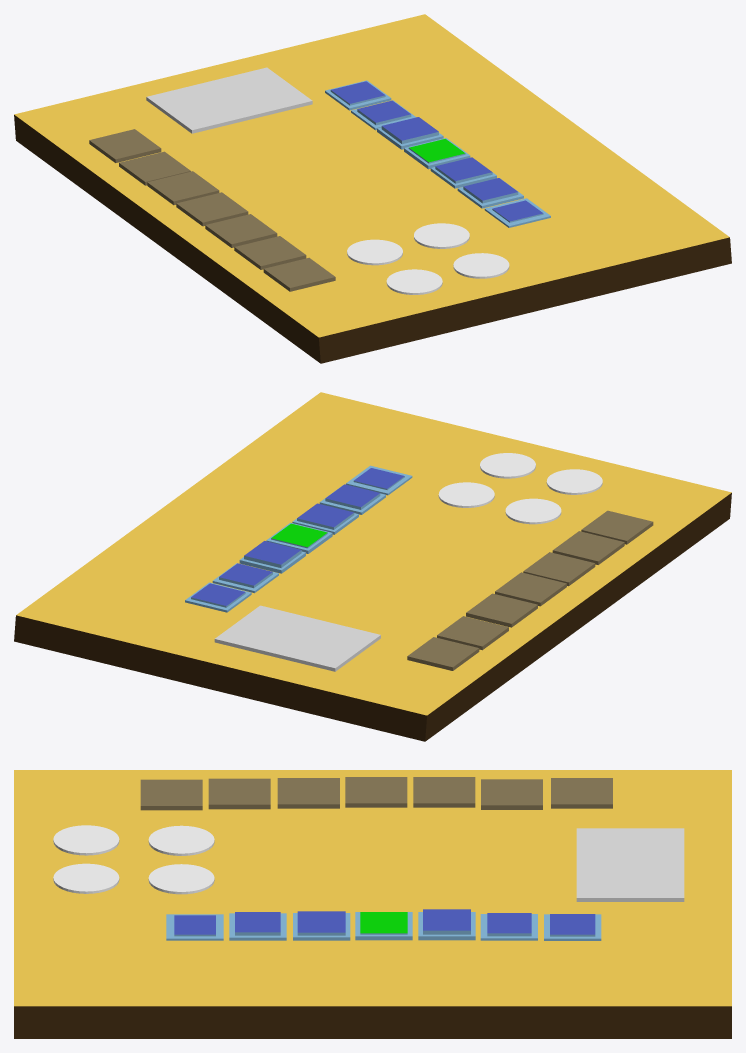
File: BOARD SEKTOR TAMBANG.fbx
3 renders of one model, top to bottom at view 1: azimuth 30°, elevation 25°; view 2: azimuth 150°, elevation 25°; view 3: azimuth 270°, elevation 25°, orthographic. The views are drawn at different scales.
Parts seen in each view (by area): view 1: BOARD, Plane.002, COMPANY PERFORMANCE, Plane.015, Plane.014, Plane.016, Plane.013, Plane.012, Plane.011, Plane.005, Plane.007, Plane.009 (+8 smaller); view 2: BOARD, Plane.002, Plane.015, Plane.012, Plane.016, Plane.013, Plane.011, COMPANY PERFORMANCE, Plane.014, Plane.005, Plane.007, Plane.009 (+8 smaller); view 3: BOARD, Plane.002, COMPANY PERFORMANCE, Plane.016, Plane.012, Plane.013, Plane.014, Plane.011, Plane.015, Plane.005, Plane.007, Plane.006 (+8 smaller).
Boxes of the visible parts, <box> form: BOARD: <box>14,14,731,363</box>; Plane.002: <box>146,67,312,133</box>; COMPANY PERFORMANCE: <box>263,257,335,291</box>; Plane.015: <box>89,129,161,162</box>; Plane.014: <box>205,214,277,247</box>; Plane.016: <box>234,236,306,269</box>; Plane.013: <box>176,192,248,226</box>; Plane.012: <box>147,171,219,205</box>; Plane.011: <box>119,151,190,185</box>; Plane.005: <box>377,117,443,149</box>; Plane.007: <box>430,157,496,188</box>; Plane.009: <box>457,178,523,208</box>; BOARD: <box>14,392,731,741</box>; Plane.002: <box>214,605,380,671</box>; Plane.015: <box>407,637,479,670</box>; Plane.012: <box>466,593,537,627</box>; Plane.016: <box>552,531,624,564</box>; Plane.013: <box>495,572,566,606</box>; Plane.011: <box>437,616,508,650</box>; COMPANY PERFORMANCE: <box>581,510,653,544</box>; Plane.014: <box>523,552,595,586</box>; Plane.005: <box>239,541,305,573</box>; Plane.007: <box>292,503,358,534</box>; Plane.009: <box>319,484,385,514</box>; BOARD: <box>14,770,731,1038</box>; Plane.002: <box>576,828,684,901</box>; COMPANY PERFORMANCE: <box>140,779,202,810</box>; Plane.016: <box>208,778,270,809</box>; Plane.012: <box>413,777,475,807</box>; Plane.013: <box>345,777,407,807</box>; Plane.014: <box>277,778,339,808</box>; Plane.011: <box>481,779,542,809</box>; Plane.015: <box>551,778,612,808</box>; Plane.005: <box>418,909,475,940</box>; Plane.007: <box>293,911,350,940</box>; Plane.006: <box>355,912,412,940</box>.
Size of the model in its own units: 12894 by 1006 by 16480.
